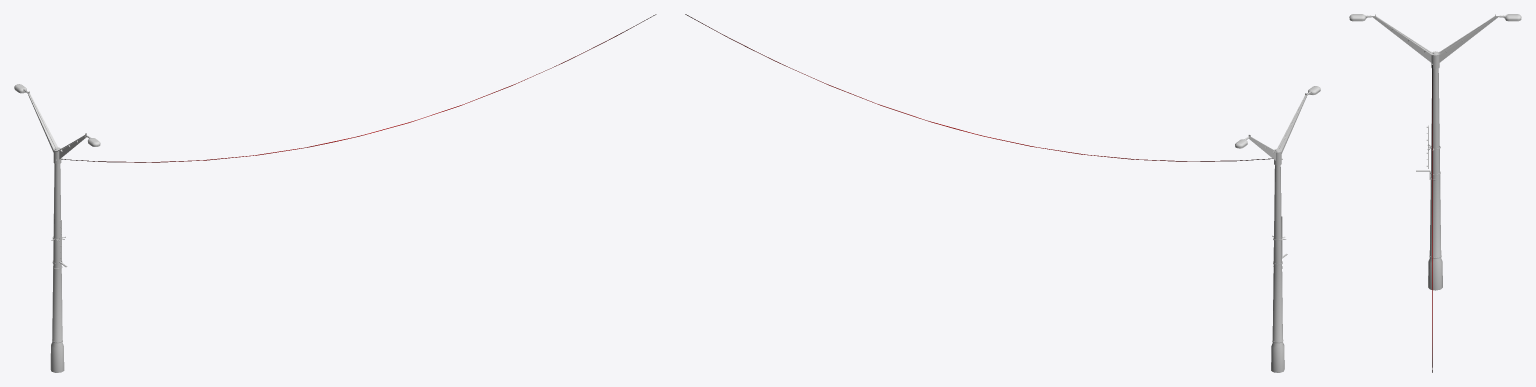
File: StreetLight.fbx
The picture shows the model from 3 angles, left to right: view 1: azimuth 30°, elevation 25°; view 2: azimuth 150°, elevation 25°; view 3: azimuth 270°, elevation 25°; orthographic projection. The views are drawn at different scales.
Parts seen in each view (by area): view 1: LightPole_02, PowerCable_01; view 2: LightPole_02, PowerCable_01; view 3: LightPole_02, PowerCable_01.
Boxes of the visible parts, box(x1,y1,x2,y2) form: LightPole_02: box(14, 84, 100, 372); PowerCable_01: box(61, 14, 656, 162); LightPole_02: box(1235, 86, 1320, 372); PowerCable_01: box(685, 14, 1272, 161); LightPole_02: box(1349, 14, 1521, 290); PowerCable_01: box(1432, 65, 1432, 372).
Size of the model in its own units: 2439 by 992 by 567.
